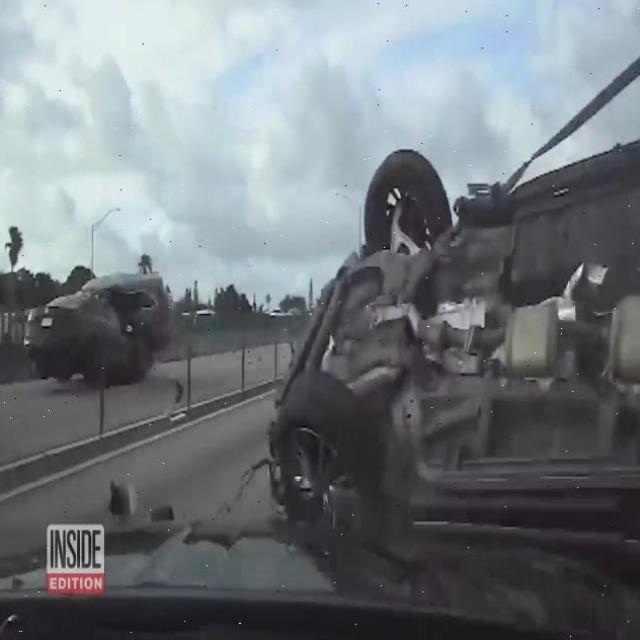accident: (264, 125, 640, 543)
